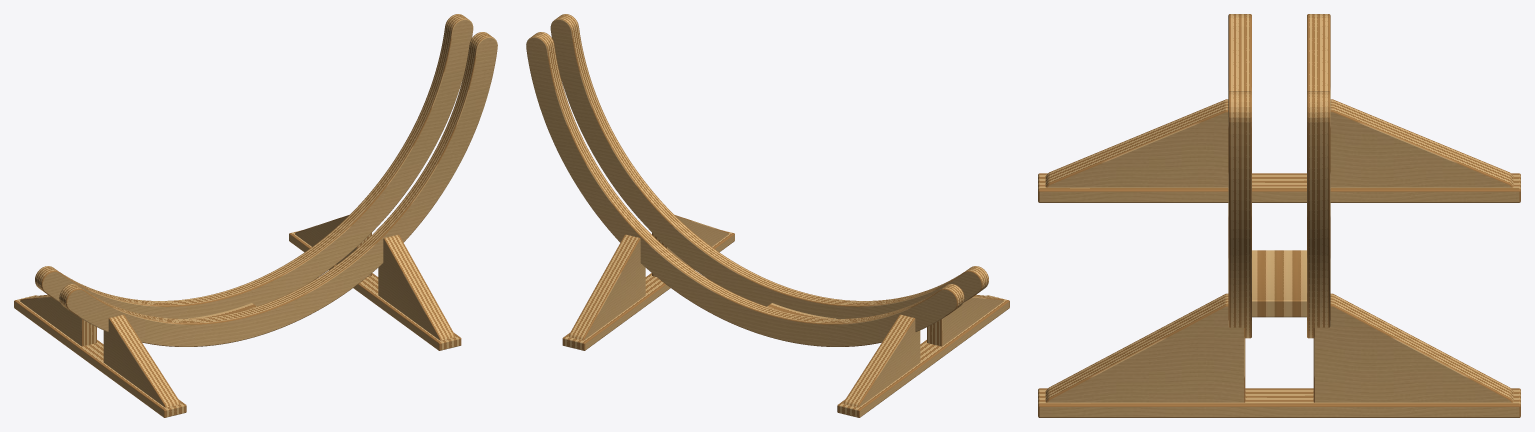
The model's file is wooden-bike-stand.glb.
The picture shows the model from 3 angles, left to right: view 1: azimuth 30°, elevation 25°; view 2: azimuth 150°, elevation 25°; view 3: azimuth 270°, elevation 25°; orthographic projection. The views are drawn at different scales.
Parts seen in each view (by area): view 1: Stand_Left_Rail, Stand_Right_Rail, Stand_Rear_Foot, Stand_Front_Foot; view 2: Stand_Right_Rail, Stand_Left_Rail, Stand_Rear_Foot, Stand_Front_Foot; view 3: Stand_Front_Foot, Stand_Rear_Foot, Stand_Left_Rail, Stand_Right_Rail, Stand_Tire_Seat.
Boxes of the visible parts, box(x1,y1,x2,y2) form: Stand_Left_Rail: box(59, 32, 497, 346); Stand_Right_Rail: box(35, 14, 473, 318); Stand_Rear_Foot: box(14, 294, 186, 417); Stand_Front_Foot: box(289, 215, 461, 350); Stand_Right_Rail: box(526, 32, 964, 346); Stand_Left_Rail: box(550, 14, 988, 318); Stand_Rear_Foot: box(837, 294, 1009, 417); Stand_Front_Foot: box(562, 215, 734, 350); Stand_Front_Foot: box(1038, 293, 1520, 417); Stand_Rear_Foot: box(1038, 99, 1520, 202); Stand_Left_Rail: box(1228, 14, 1251, 338); Stand_Right_Rail: box(1307, 14, 1330, 338); Stand_Tire_Seat: box(1252, 250, 1306, 317).
Size of the model in its own units: 0.6129 by 0.3315 by 0.37.
2 materials, 2 textured.
